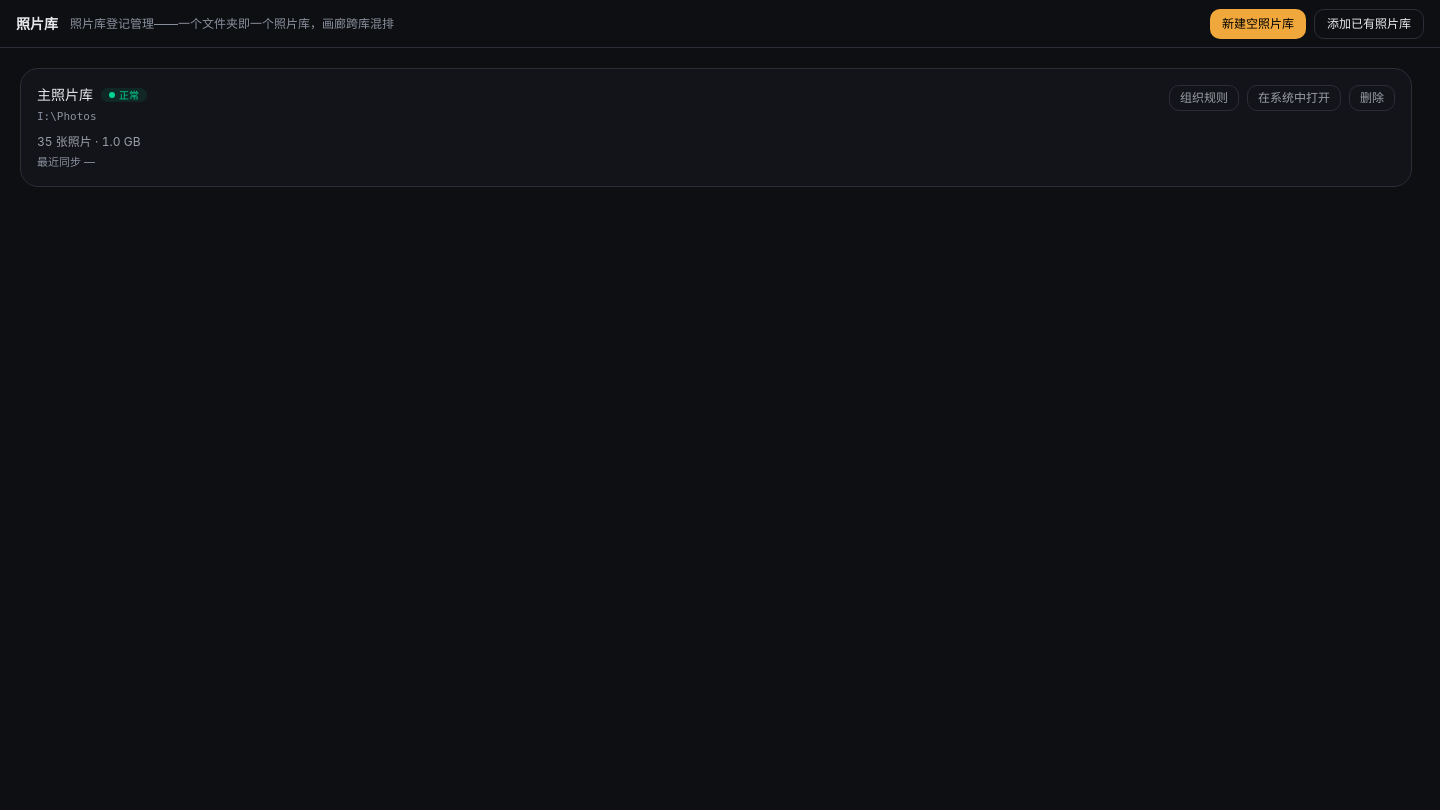
it: StoragePage 卡片操作 › 连记录删 + 勾选「同时删除磁盘上的照片文件」：deleteFiles=true，勾选后提示将删除的原文件数
This screenshot has width=1440, height=810.
Click the button with test id "storage-remove" at (1372, 98), box [1349, 85, 1395, 111]
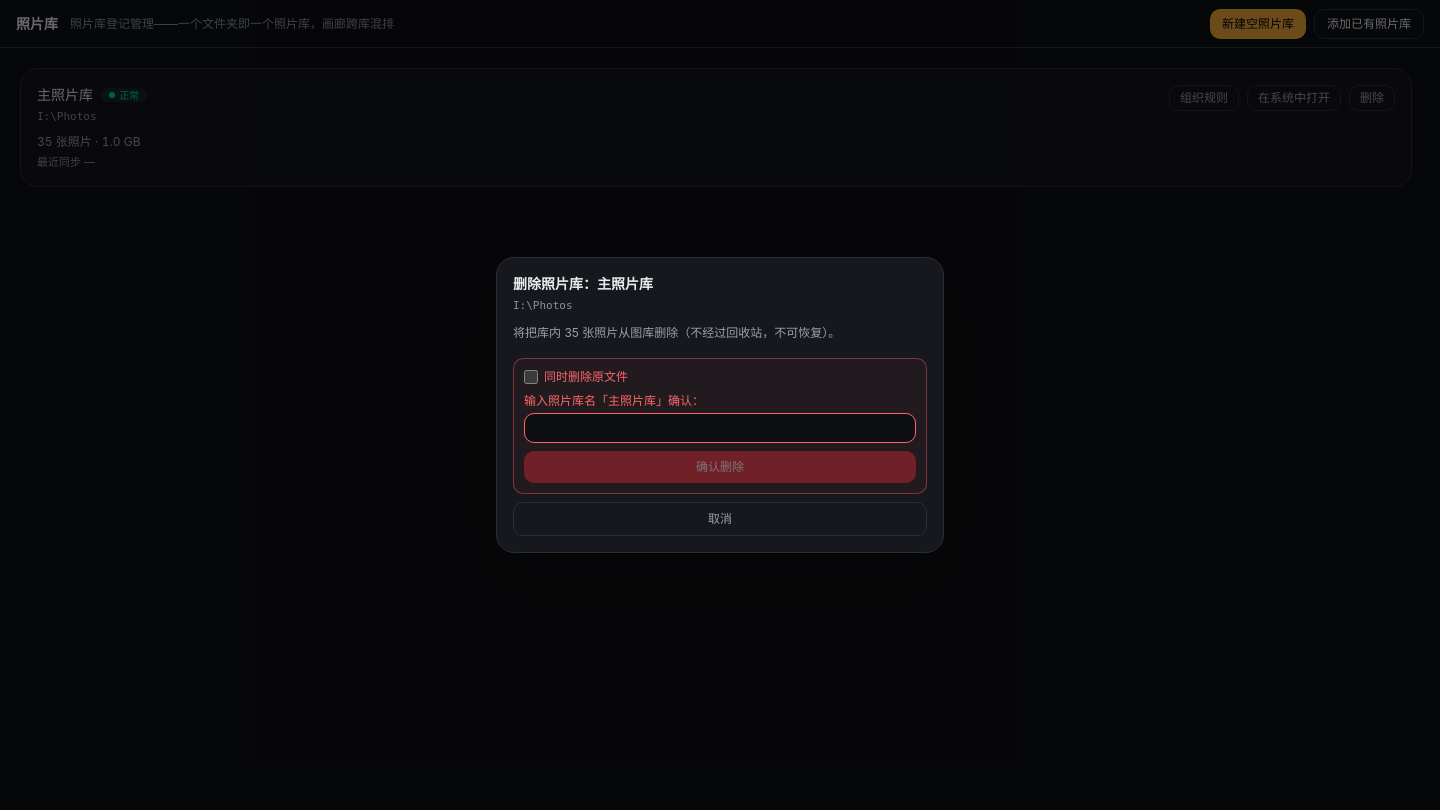
Expected: the checkbox with test id "storage-remove-delete-files" is not checked
Click the checkbox with test id "storage-remove-delete-files" at (531, 377), box [524, 370, 538, 384]
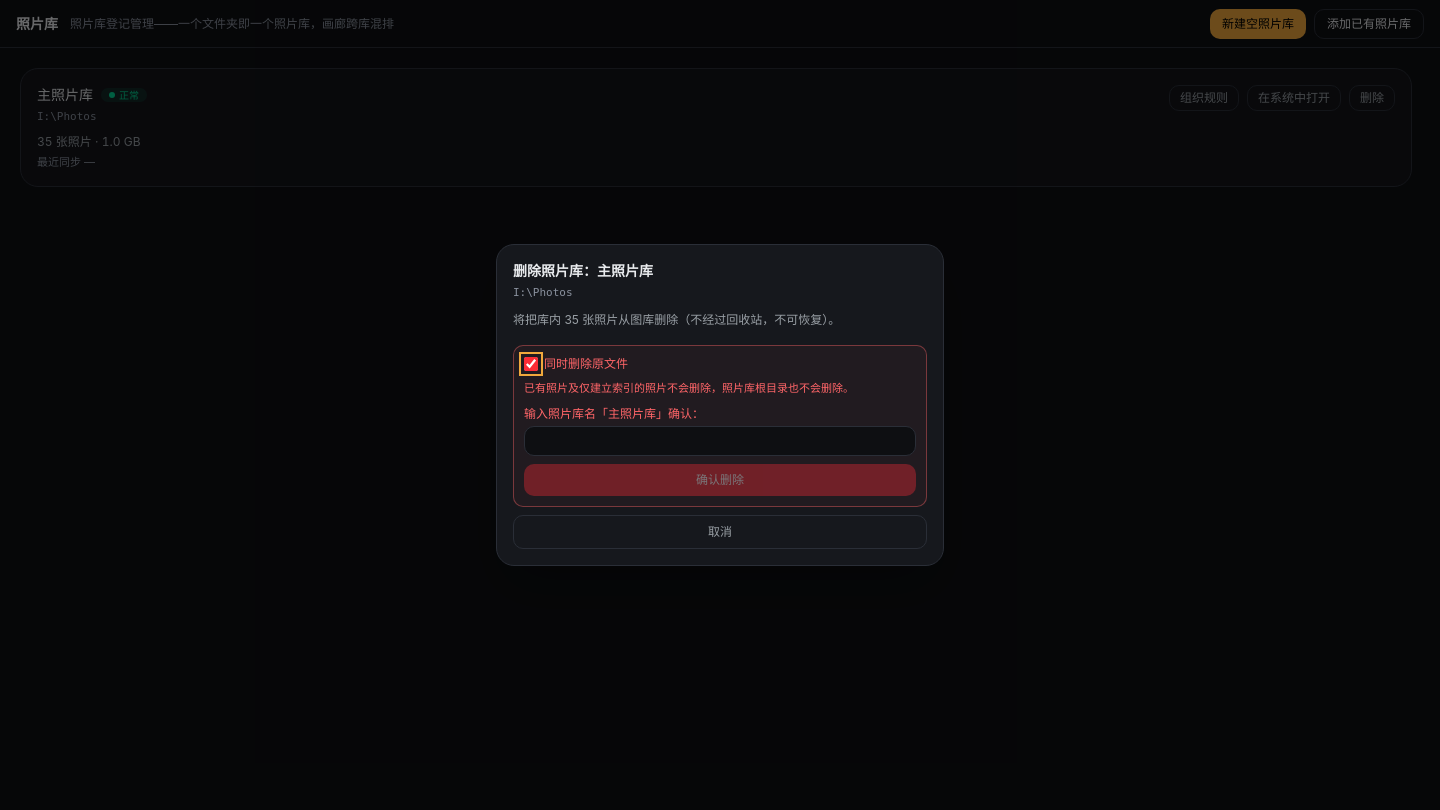
Expected: the checkbox with test id "storage-remove-delete-files" is checked, [524, 357, 538, 371]
Expected: the text with test id "storage-remove-files-hint" shows "已有照片", [524, 381, 854, 395]
Type "主照片库" into the field with test id "storage-remove-name" at (720, 441), box [524, 426, 916, 456]
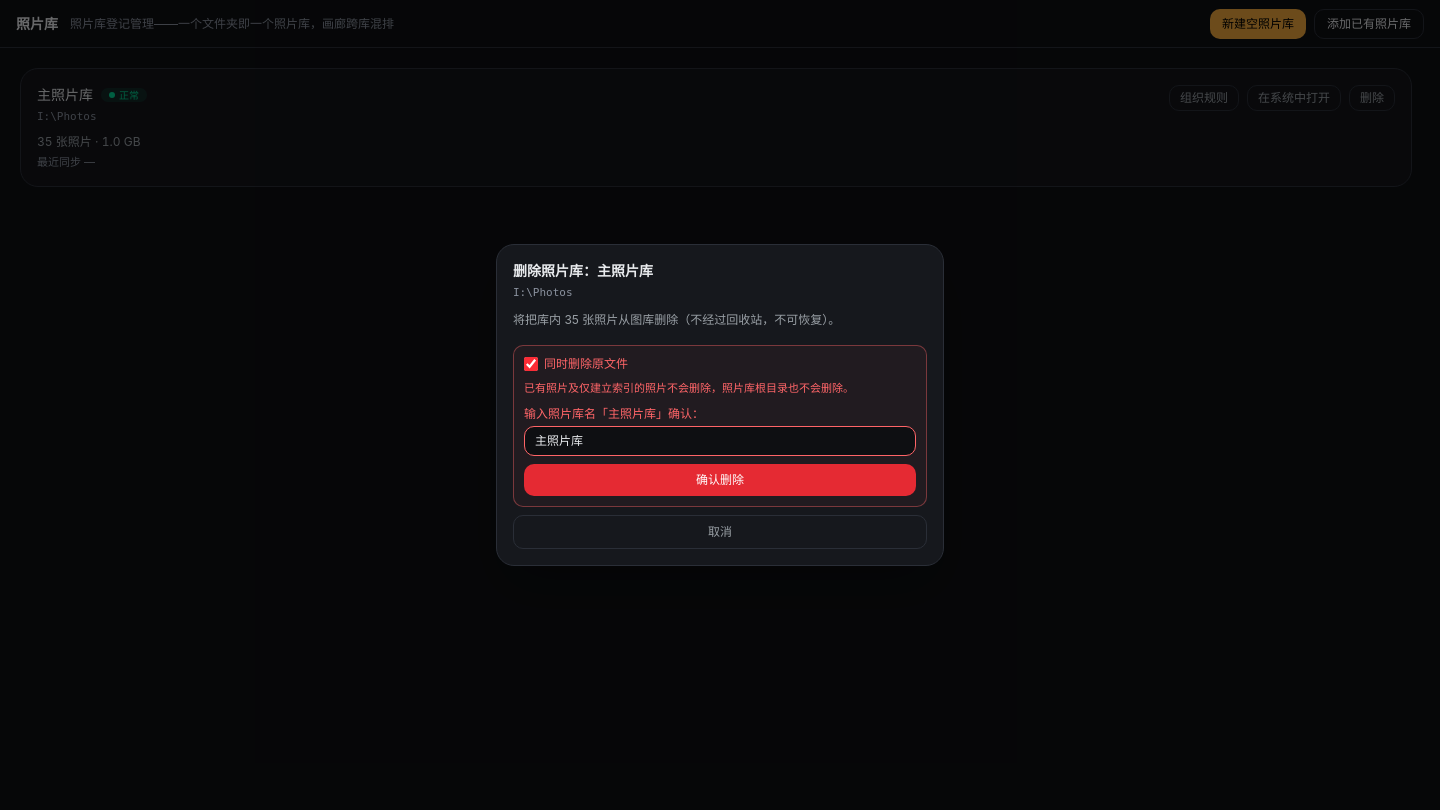
Click the button with test id "storage-remove-confirm-delete" at (720, 480), box [524, 464, 916, 496]
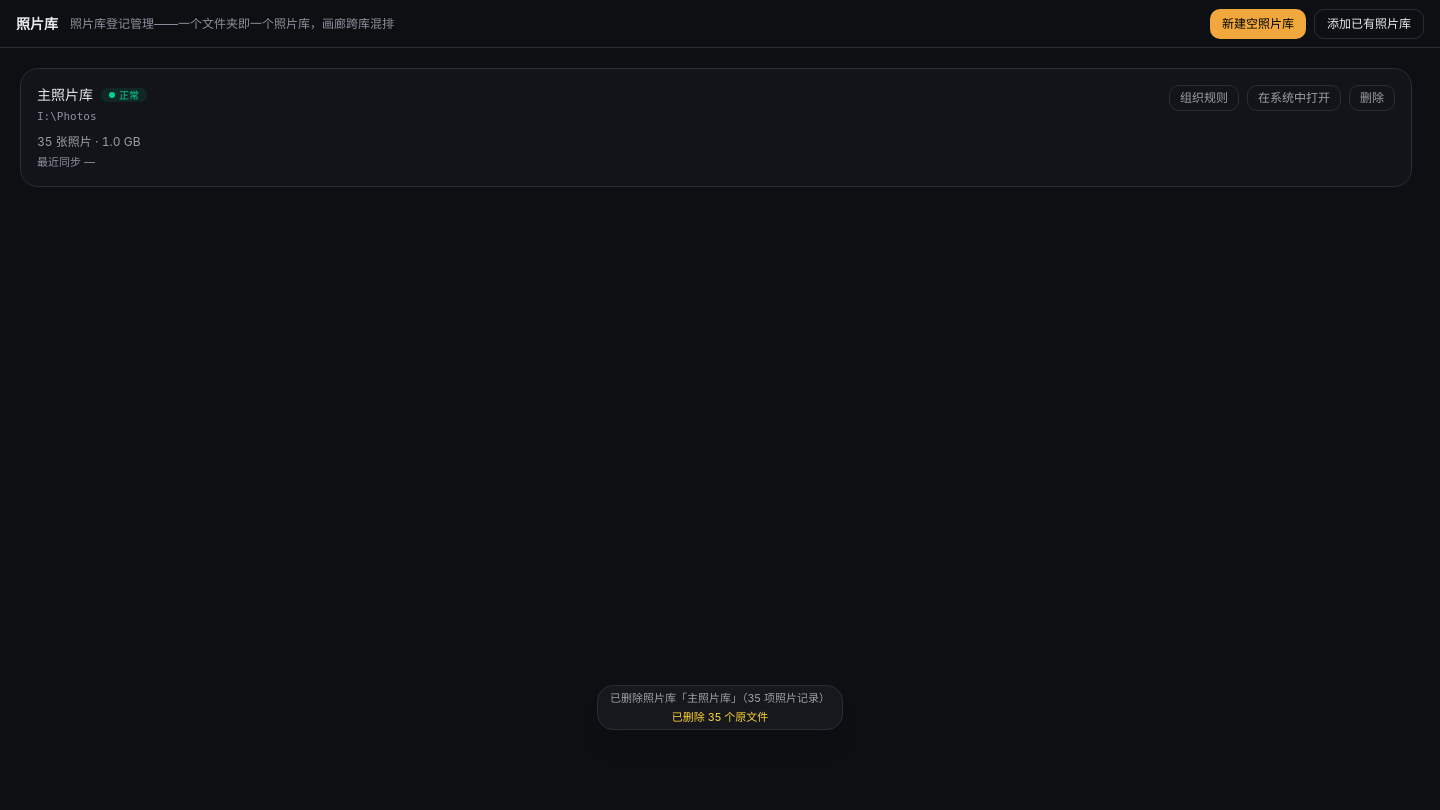
Expected: the text with test id "storage-toast-hint" shows "35", [672, 710, 768, 724]
